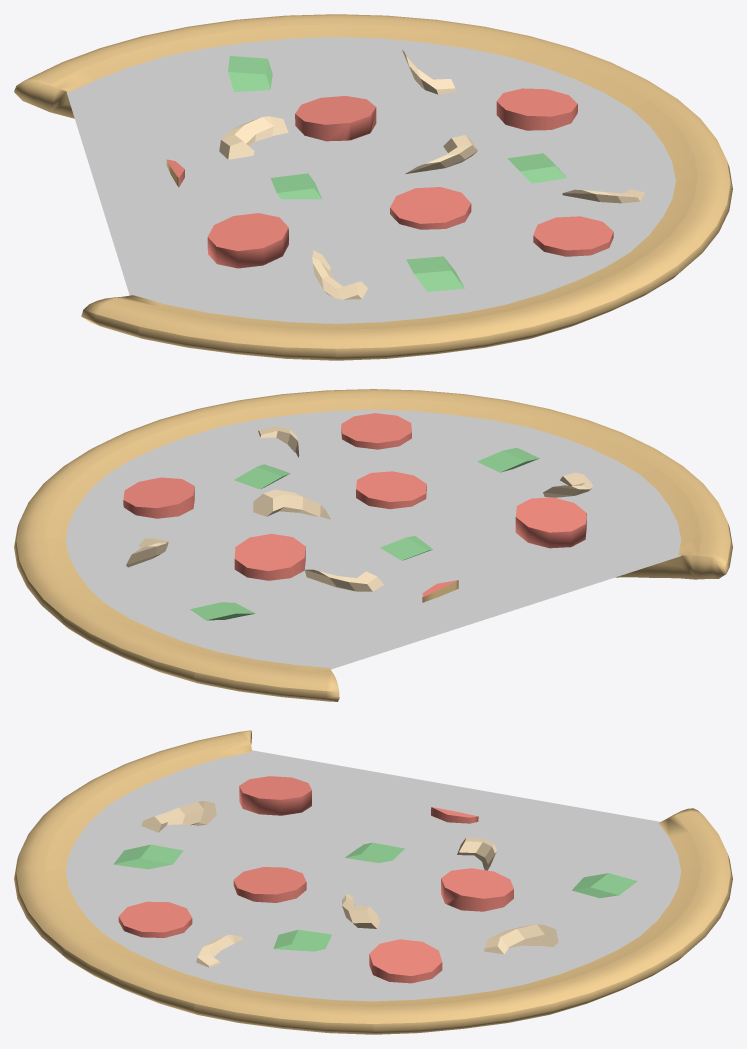
File: untitled.fbx_1st_bite.fbx
3 renders of one model, top to bottom at view 1: azimuth 30°, elevation 25°; view 2: azimuth 150°, elevation 25°; view 3: azimuth 270°, elevation 25°, orthographic. The views are drawn at different scales.
Parts seen in each view (by area): view 1: mesh_1850817464.001; view 2: mesh_1850817464.001; view 3: mesh_1850817464.001.
Boxes of the visible parts, x1,y1,x2,y2 form: mesh_1850817464.001: (14, 14, 732, 360); mesh_1850817464.001: (14, 389, 732, 701); mesh_1850817464.001: (14, 730, 732, 1034).
Bounding box in the file's own units: 56.8 × 5.13 × 58.61.
